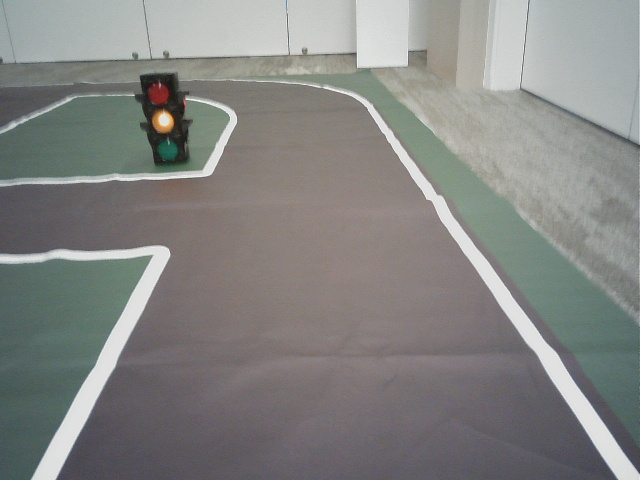yellow: (142, 79, 183, 162)
